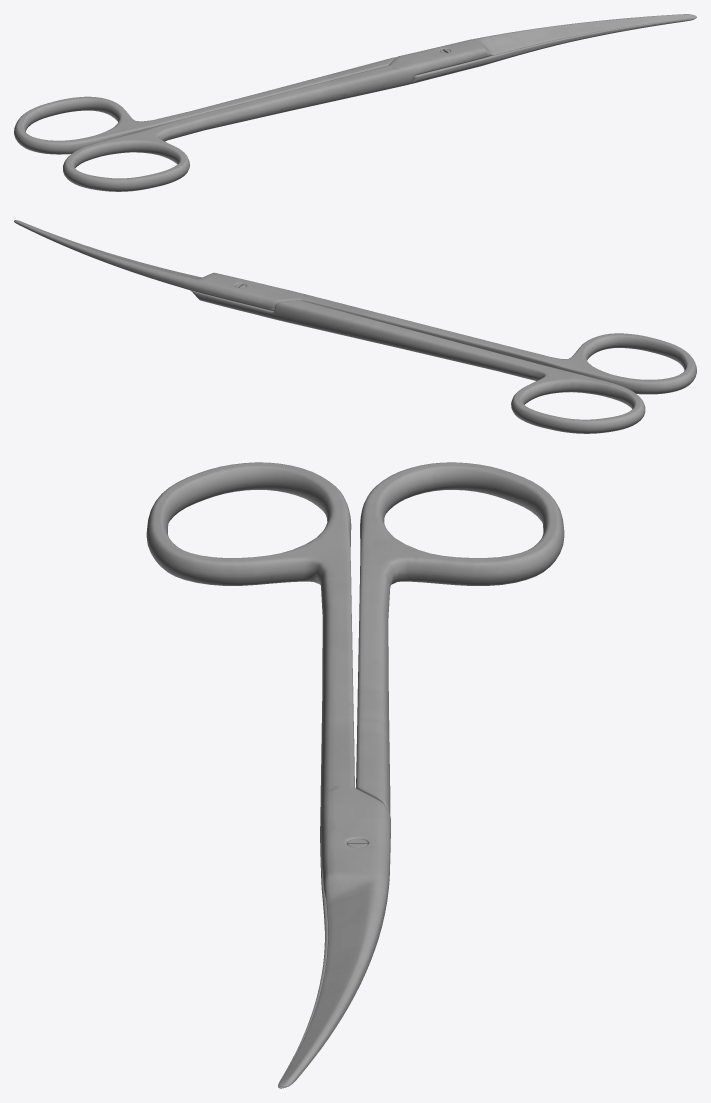
Rendered from instrument_scissors_a01.glb.
3 views of the same model, one above another, from view 1: azimuth 30°, elevation 25°; view 2: azimuth 150°, elevation 25°; view 3: azimuth 270°, elevation 25° (orthographic). The views are drawn at different scales.
Visible parts, largest first — view 1: scissors_02_mesh_00, scissors_01_mesh_00; view 2: scissors_01_mesh_00, scissors_02_mesh_00; view 3: scissors_02_mesh_00, scissors_01_mesh_00.
Boxes of the visible parts, left/top/right/bottom form: scissors_02_mesh_00: left=63, top=14, right=696, bottom=191; scissors_01_mesh_00: left=14, top=17, right=696, bottom=154; scissors_01_mesh_00: left=19, top=225, right=645, bottom=433; scissors_02_mesh_00: left=14, top=220, right=696, bottom=394; scissors_02_mesh_00: left=146, top=462, right=390, bottom=1087; scissors_01_mesh_00: left=278, top=462, right=564, bottom=1088.
Bounding box in the file's own units: 0.1719 × 0.00483 × 0.049.
Materials: 1 (1 with a texture image).
